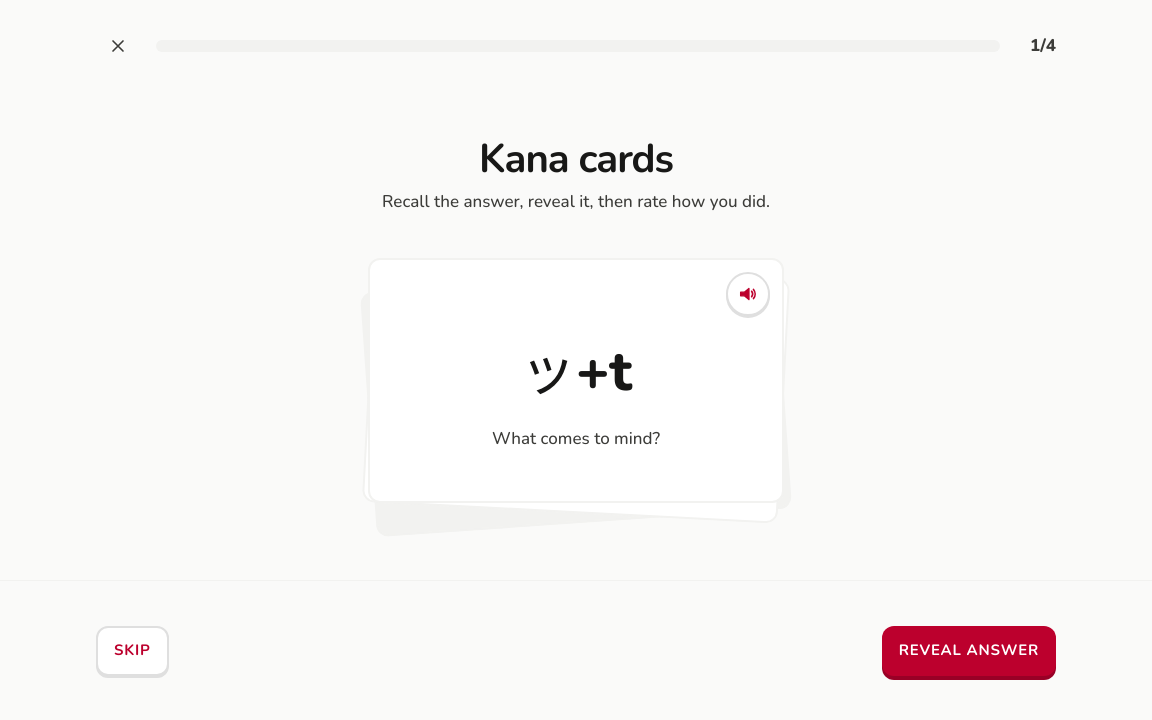
Test case: respects the app reduced-motion preference without delaying results
Check: the heading "Kana cards" is shown, box [479,132,673,186]
Check: the button "Reveal answer" is enabled, box [882,626,1056,676]
Click the button "Skip" at (132, 650), box [96,626,169,676]
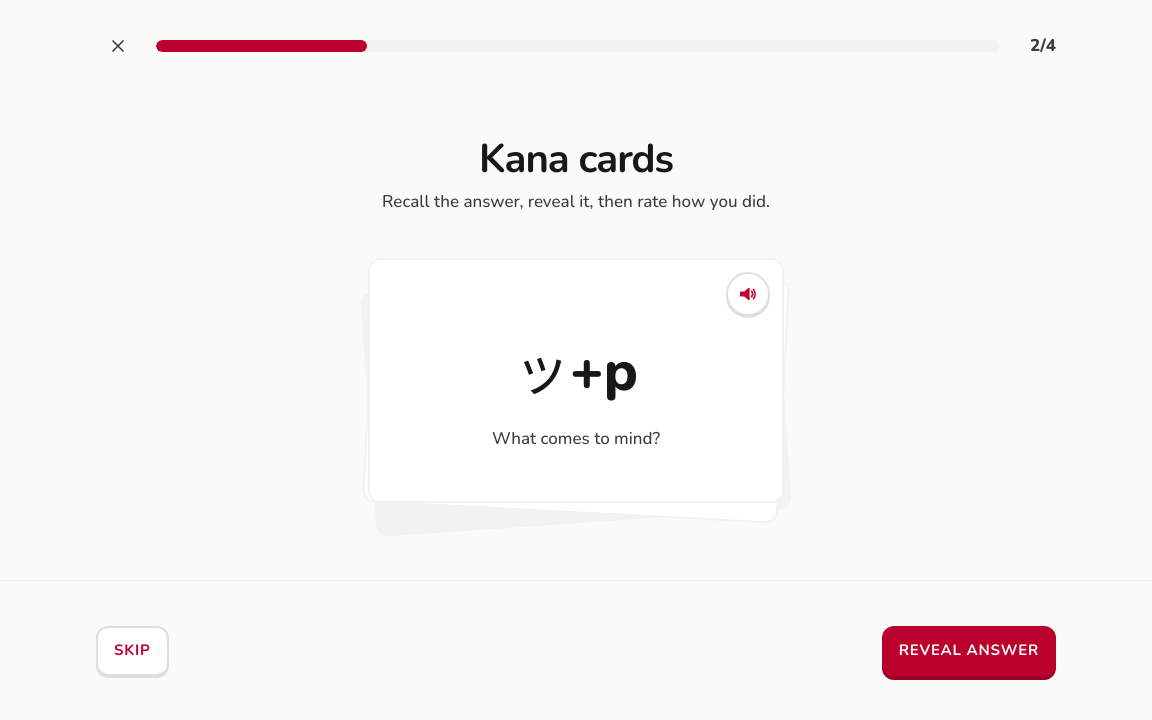
Click the button "Skip" at (132, 650), box [96,626,169,676]
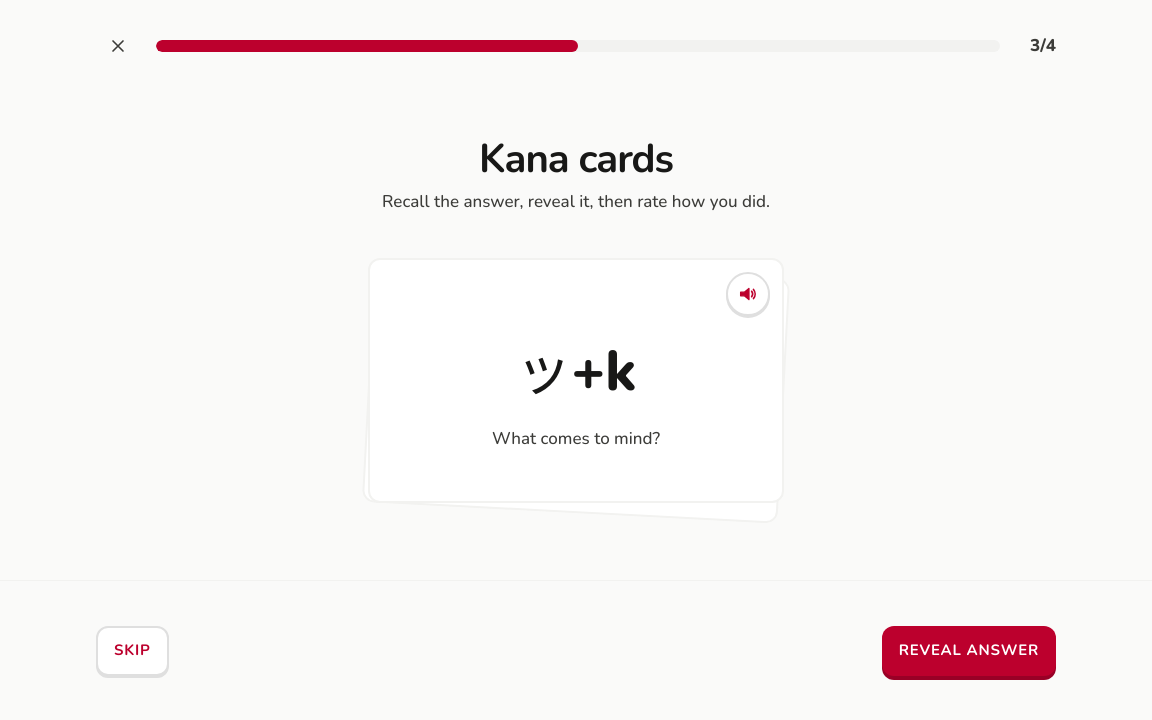
Click the button "Skip" at (132, 650), box [96,626,169,676]
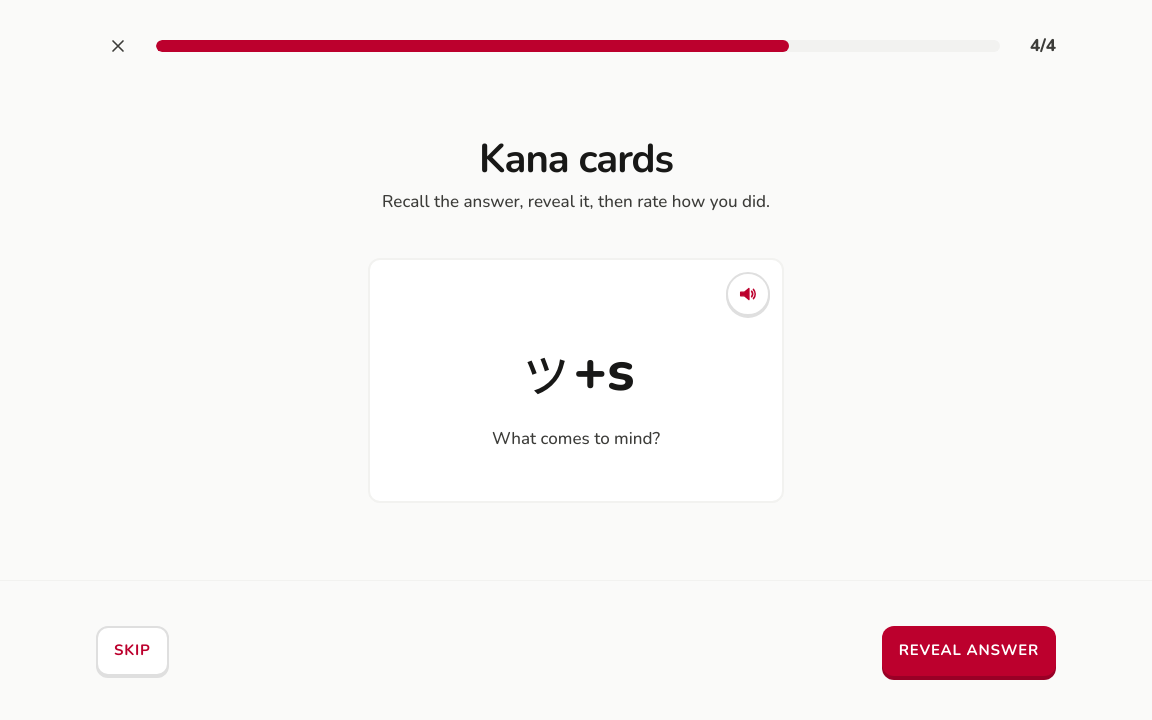
Click the button "Skip" at (132, 650), box [96,626,169,676]
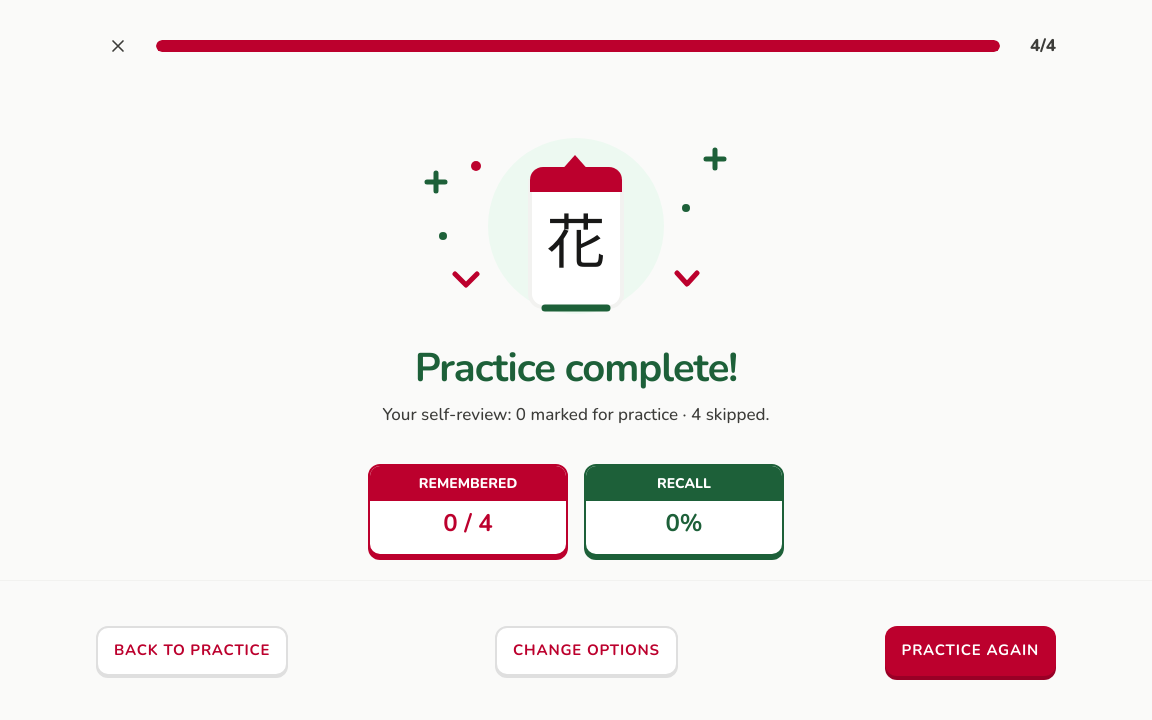
Check: the text "0 / 4" is shown, box [443,507,493,539]
Check: the heading "Practice complete!" is shown, box [415,346,737,390]
